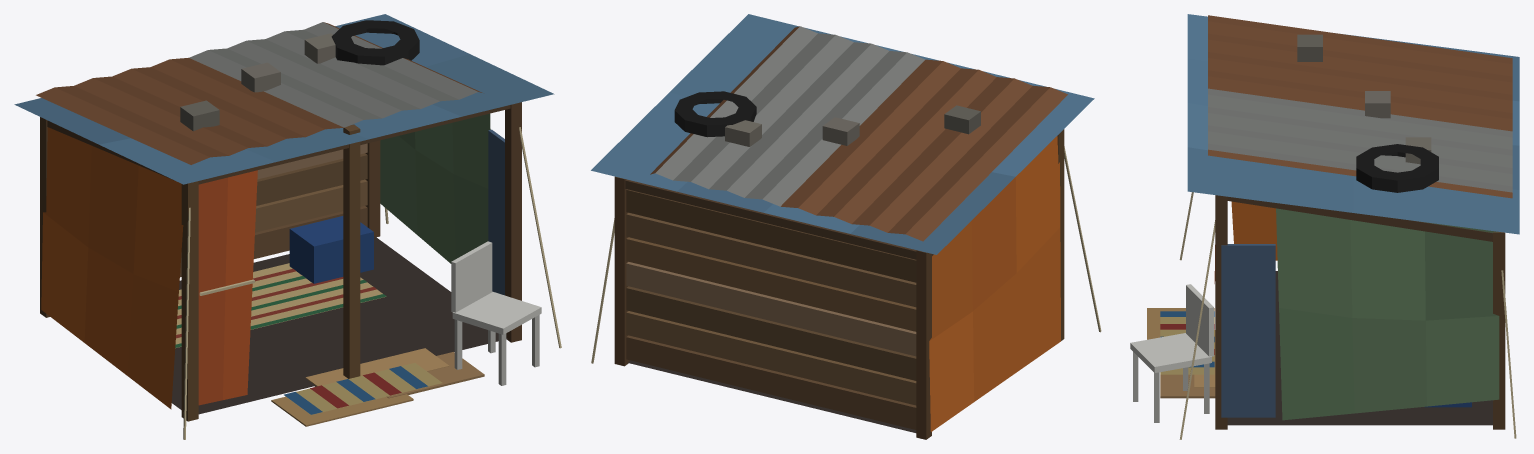
Rendered from ns_tent_shack.glb.
3 views of the same model, side by side, from view 1: azimuth 30°, elevation 25°; view 2: azimuth 150°, elevation 25°; view 3: azimuth 270°, elevation 25° (orthographic). The views are drawn at different scales.
Visible parts, largest first — view 1: ns_tent_shack; view 2: ns_tent_shack; view 3: ns_tent_shack.
Boxes of the visible parts, box(x1,y1,x2,y2) form: ns_tent_shack: box(14, 14, 561, 439); ns_tent_shack: box(591, 14, 1101, 439); ns_tent_shack: box(1130, 14, 1519, 439).
Size of the model in its own units: 3.15 by 2.1 by 2.87.
